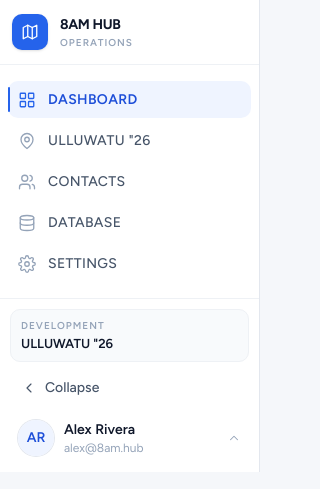
Test: Sidebar — Phase 6 polish › menu closes on Escape
Click the button "AR Alex Rivera alex@8am.hub" at (130, 438), box [10,414,249,462]
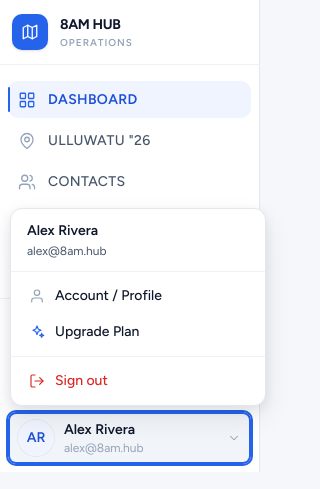
Check: the menu is shown, box [10,208,266,406]
Press Escape
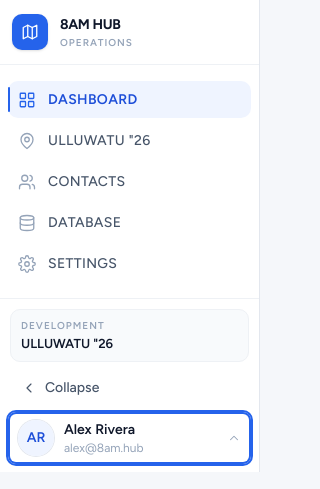
Check: the menu is gone
